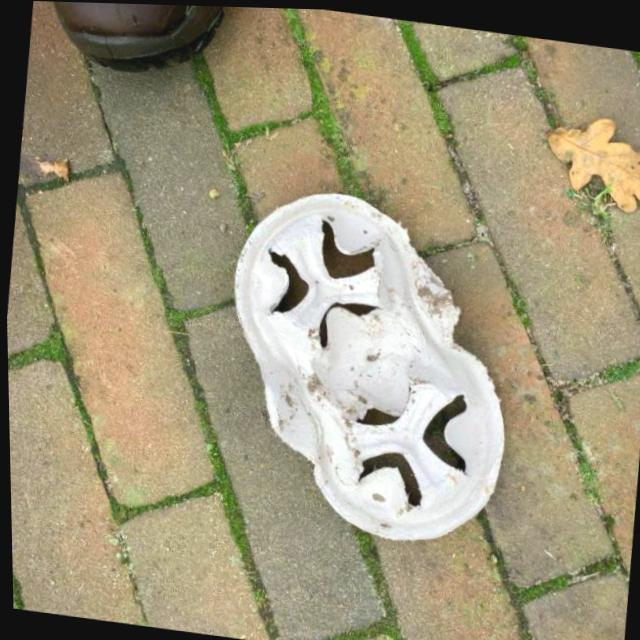Paper: (199, 171, 533, 557)
